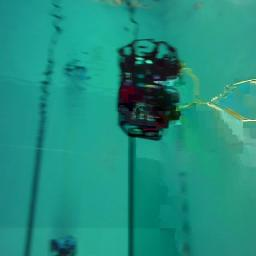Side: (117, 83, 181, 140)
front: (50, 234, 77, 256)
